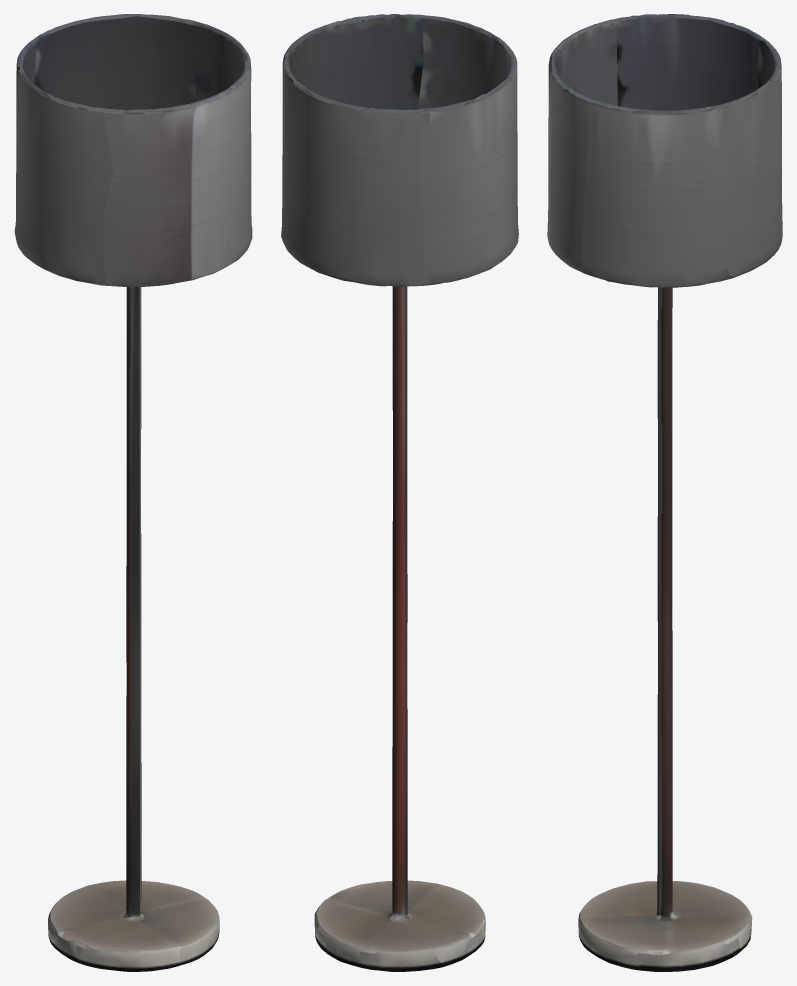
Rendered from Lampe1_3D_textured.glb.
3 views of the same model, side by side, from view 1: azimuth 30°, elevation 25°; view 2: azimuth 150°, elevation 25°; view 3: azimuth 270°, elevation 25° (orthographic).
Visible parts, largest first — view 1: temp_mesh.ply; view 2: temp_mesh.ply; view 3: temp_mesh.ply.
Boxes of the visible parts, <box> form: temp_mesh.ply: <box>14,14,252,971</box>; temp_mesh.ply: <box>281,14,518,971</box>; temp_mesh.ply: <box>547,14,782,971</box>.
Size of the model in its own units: 0.4843 by 1.97 by 0.4814.
Materials: 1 (1 with a texture image).
